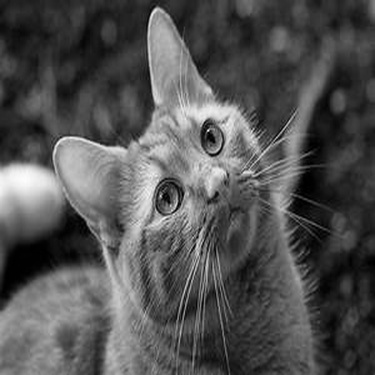cat: (3, 2, 340, 369)
